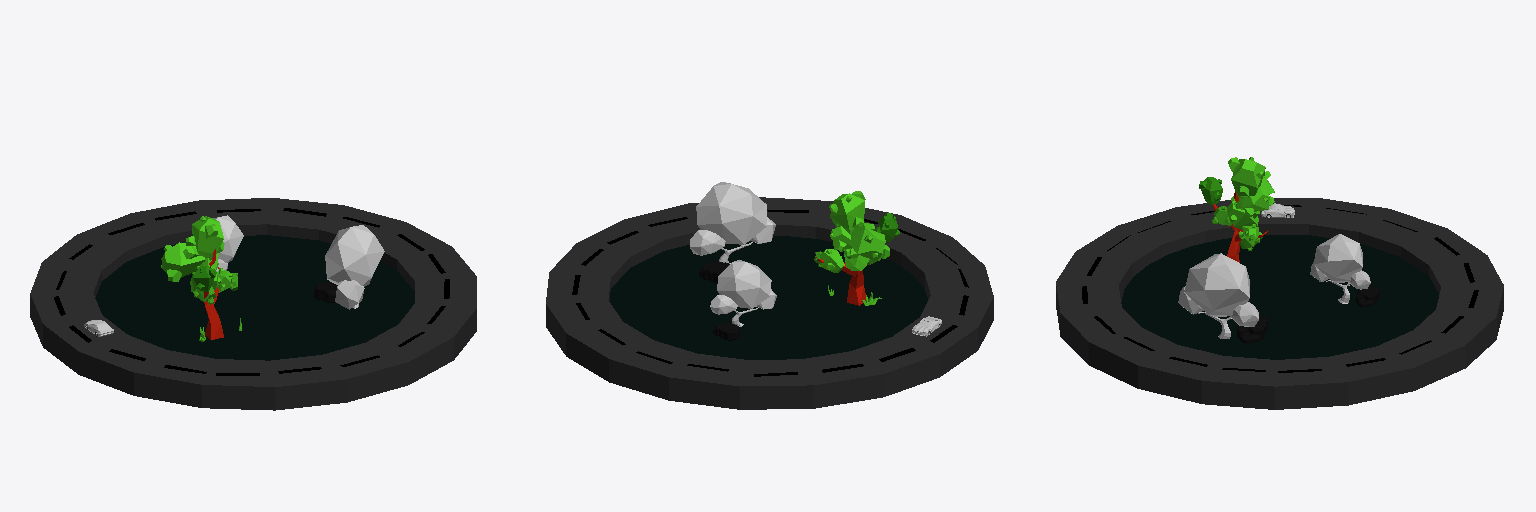
3 views of the same model, side by side, from view 1: azimuth 30°, elevation 25°; view 2: azimuth 150°, elevation 25°; view 3: azimuth 270°, elevation 25° (orthographic).
Parts seen in each view (by area): view 1: Cube.001, Cylinder, yaprak1.001, BranchesCBranchesuBranchesbBrancheseBranches.Branches0Branc.005, BranchesCBranchesuBranchesbBrancheseBranches.Branches0Branc.004, yaprak1, yaprak3.001, Trunk; view 2: Cube.001, Cylinder, yaprak1.001, yaprak1, BranchesCBranchesuBranchesbBrancheseBranches.Branches0Branc.004, BranchesCBranchesuBranchesbBrancheseBranches.Branches0Branc.005, yaprak2.001, Trunk; view 3: Cube.001, Cylinder, yaprak1.001, yaprak1, BranchesCBranchesuBranchesbBrancheseBranches.Branches0Branc.004, BranchesCBranchesuBranchesbBrancheseBranches.Branches0Branc.002, CavePlatform2-1.001.
Part boxes in pixels (bbox=[...]): Cube.001: bbox=[30, 198, 476, 410]; Cylinder: bbox=[95, 235, 414, 360]; yaprak1.001: bbox=[325, 225, 384, 286]; BranchesCBranchesuBranchesbBrancheseBranches.Branches0Branc.005: bbox=[161, 242, 204, 281]; BranchesCBranchesuBranchesbBrancheseBranches.Branches0Branc.004: bbox=[186, 216, 224, 260]; yaprak1: bbox=[213, 215, 243, 262]; yaprak3.001: bbox=[335, 280, 364, 309]; Trunk: bbox=[204, 249, 223, 339]; Cube.001: bbox=[546, 197, 993, 409]; Cylinder: bbox=[609, 236, 927, 359]; yaprak1.001: bbox=[696, 182, 766, 244]; yaprak1: bbox=[717, 260, 771, 308]; BranchesCBranchesuBranchesbBrancheseBranches.Branches0Branc.004: bbox=[829, 191, 865, 234]; BranchesCBranchesuBranchesbBrancheseBranches.Branches0Branc.005: bbox=[849, 223, 889, 261]; yaprak2.001: bbox=[690, 230, 725, 255]; Trunk: bbox=[817, 258, 867, 305]; Cube.001: bbox=[1056, 198, 1503, 409]; Cylinder: bbox=[1121, 235, 1438, 359]; yaprak1.001: bbox=[1184, 253, 1249, 316]; yaprak1: bbox=[1314, 234, 1362, 282]; BranchesCBranchesuBranchesbBrancheseBranches.Branches0Branc.004: bbox=[1228, 157, 1265, 197]; BranchesCBranchesuBranchesbBrancheseBranches.Branches0Branc.002: bbox=[1236, 187, 1274, 216]; CavePlatform2-1.001: bbox=[1237, 316, 1268, 342].
Size of the model in its own units: 34.68 by 11.27 by 34.74.